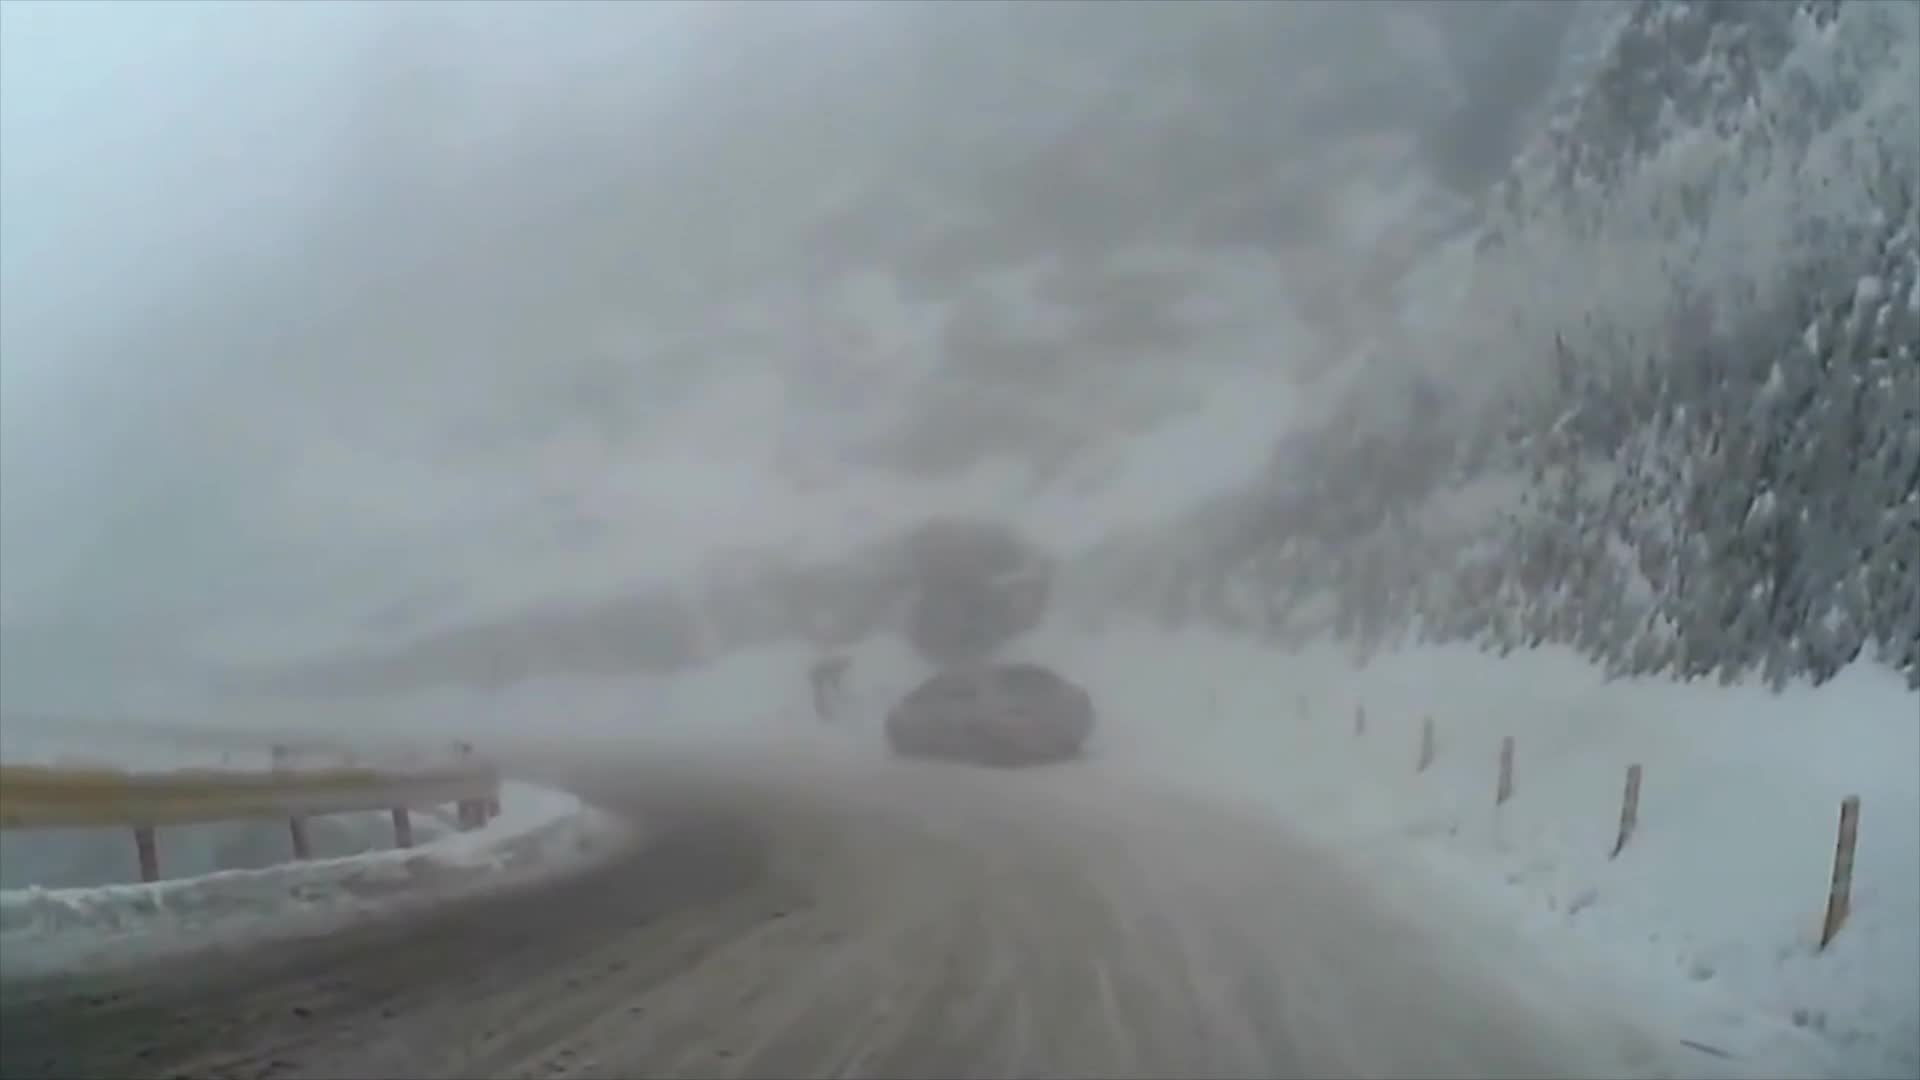pedestrian: (807, 655, 855, 725)
vehicle: (883, 663, 1092, 767)
